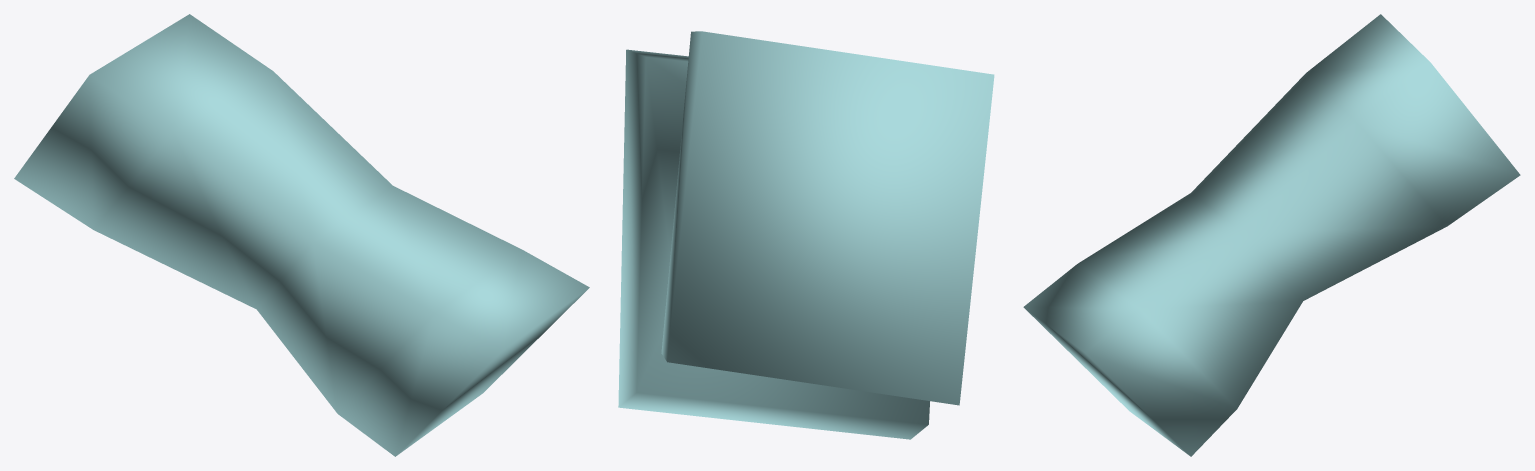
File: Skelly_thumb.02.L.fbx
3 renders of one model, left to right at view 1: azimuth 30°, elevation 25°; view 2: azimuth 150°, elevation 25°; view 3: azimuth 270°, elevation 25°, orthographic. The views are drawn at different scales.
Parts seen in each view (by area): view 1: Skelly_thumb.02.L; view 2: Skelly_thumb.02.L; view 3: Skelly_thumb.02.L.
Boxes of the visible parts, x1,y1,x2,y2 form: Skelly_thumb.02.L: (14, 14, 589, 456); Skelly_thumb.02.L: (618, 31, 994, 439); Skelly_thumb.02.L: (1023, 14, 1520, 456).
Bounding box in the file's own units: 2.85 × 2.46 × 3.41.
